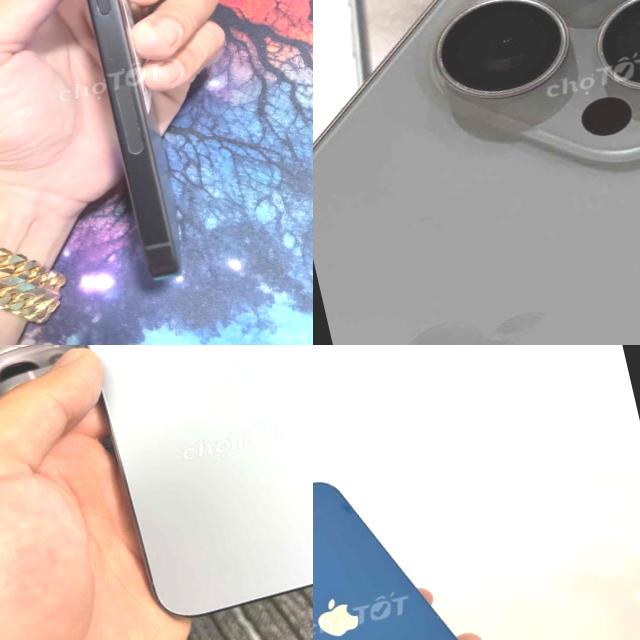scratch: (78, 0, 121, 20), (99, 51, 126, 80)
